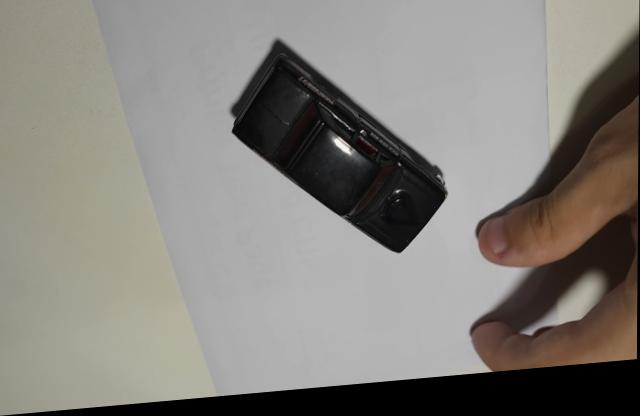01_FORD: (230, 42, 451, 259)
